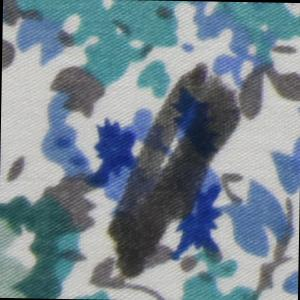Stain: (105, 59, 248, 283)
